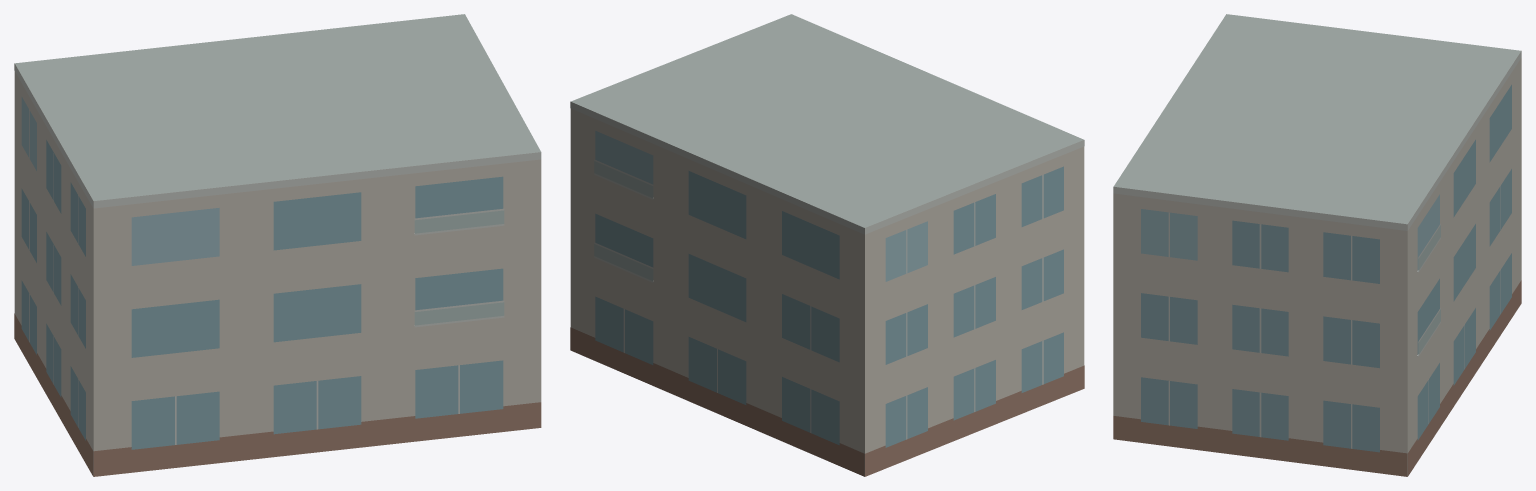
Rendered from survey-upis-32902924.glb.
The picture shows the model from 3 angles, left to right: view 1: azimuth 30°, elevation 25°; view 2: azimuth 150°, elevation 25°; view 3: azimuth 270°, elevation 25°; orthographic projection. The views are drawn at different scales.
Visible parts, largest first — view 1: survey-upis-32902924.tmp; view 2: survey-upis-32902924.tmp; view 3: survey-upis-32902924.tmp.
Boxes of the visible parts, x1,y1,x2,y2 form: survey-upis-32902924.tmp: (14,14,541,476); survey-upis-32902924.tmp: (570,14,1084,476); survey-upis-32902924.tmp: (1113,14,1521,476).
Bounding box in the file's own units: 16.35 × 9.15 × 13.41.
